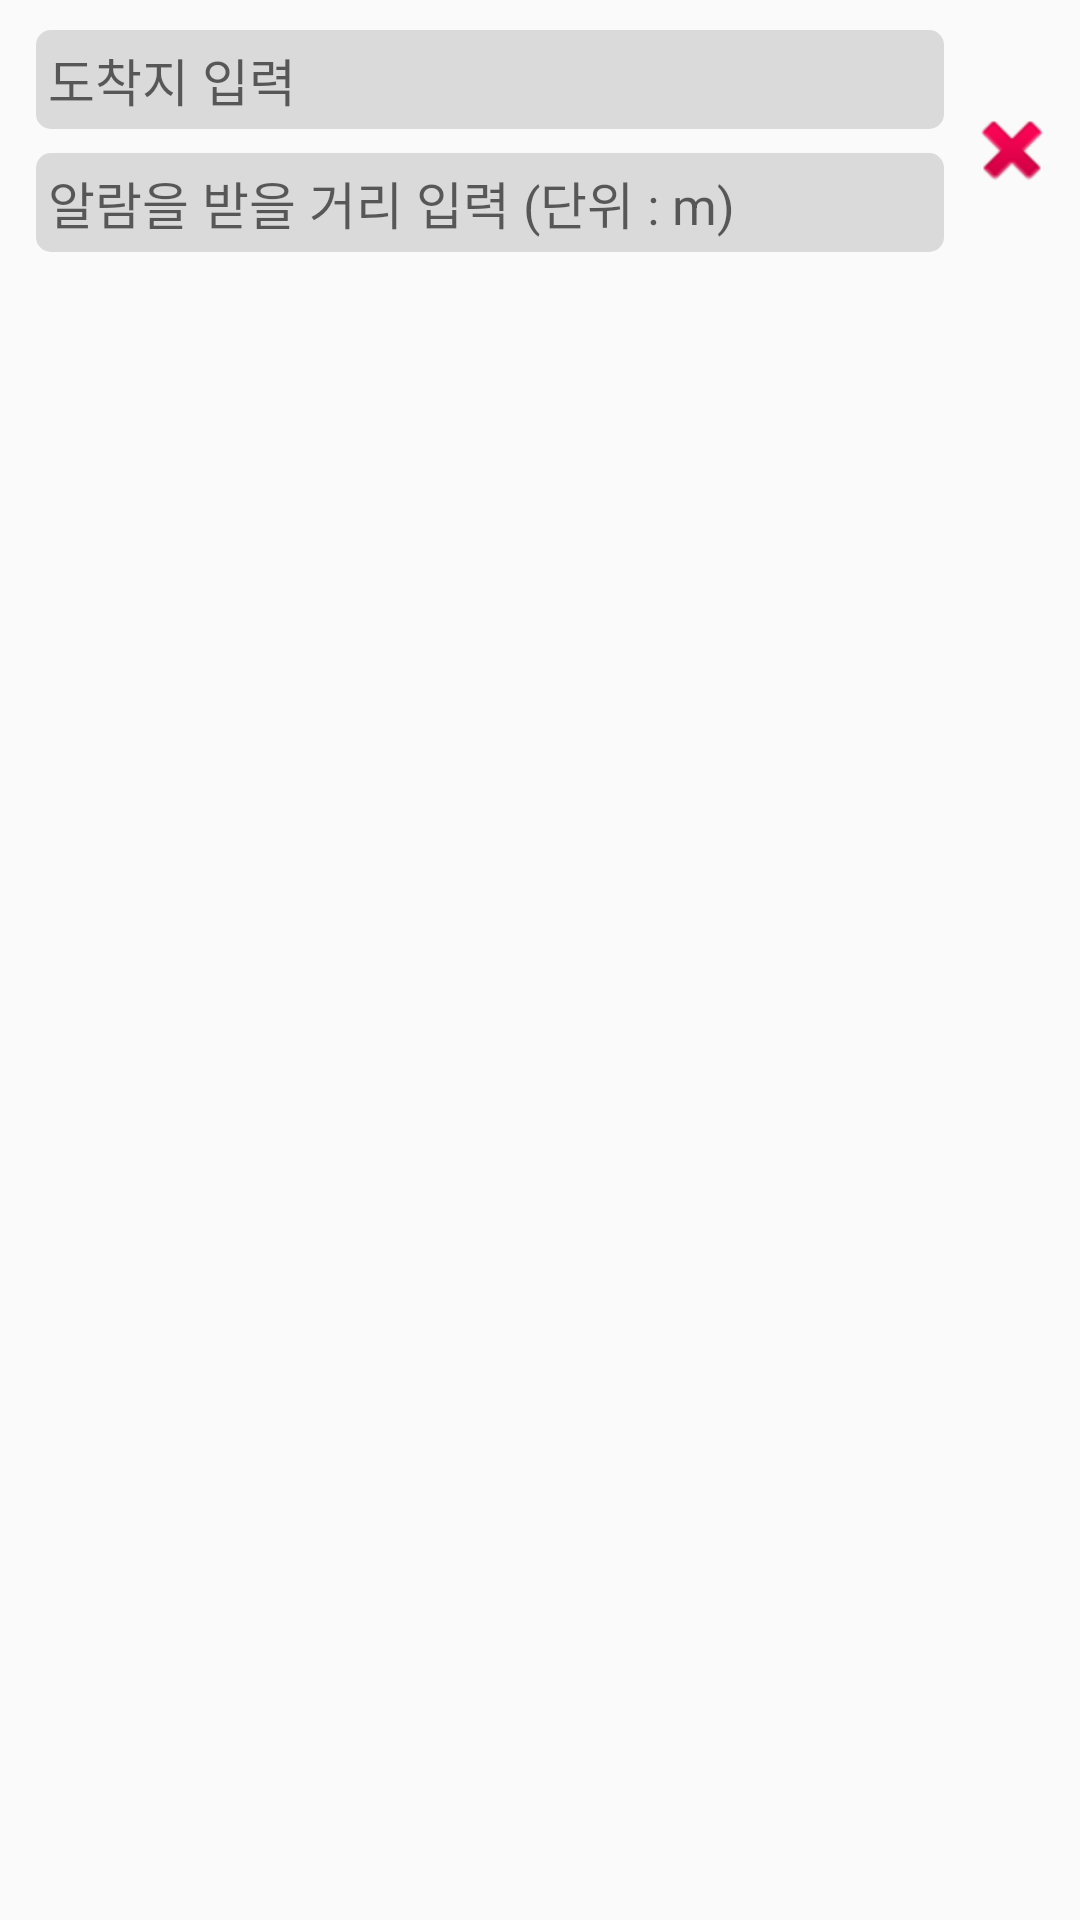

Point at icon controls on the screen. Image size 1080*1920, points as [x,y].
delete: [1012,150]
